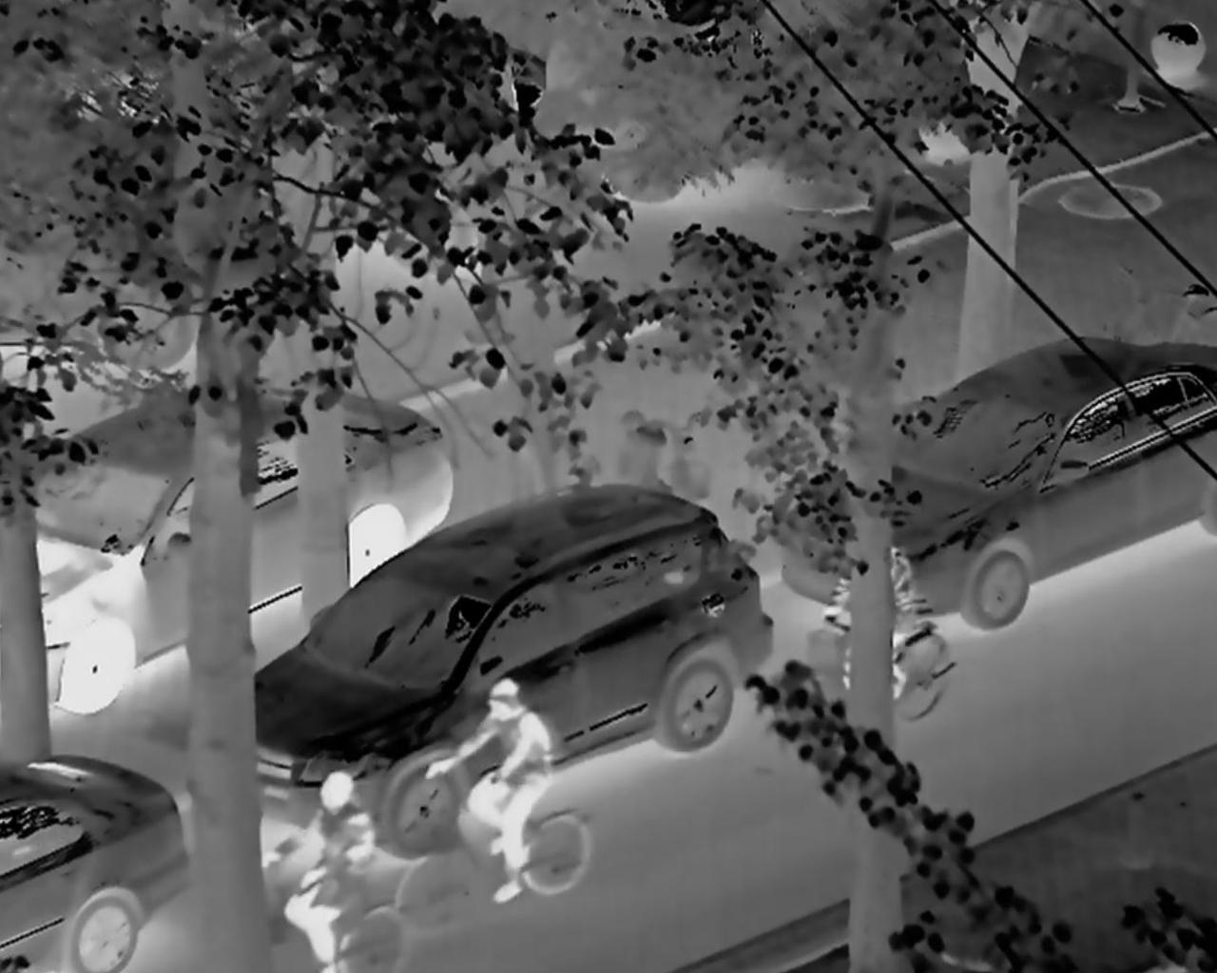person: (438, 676, 579, 908), (249, 754, 396, 973)
